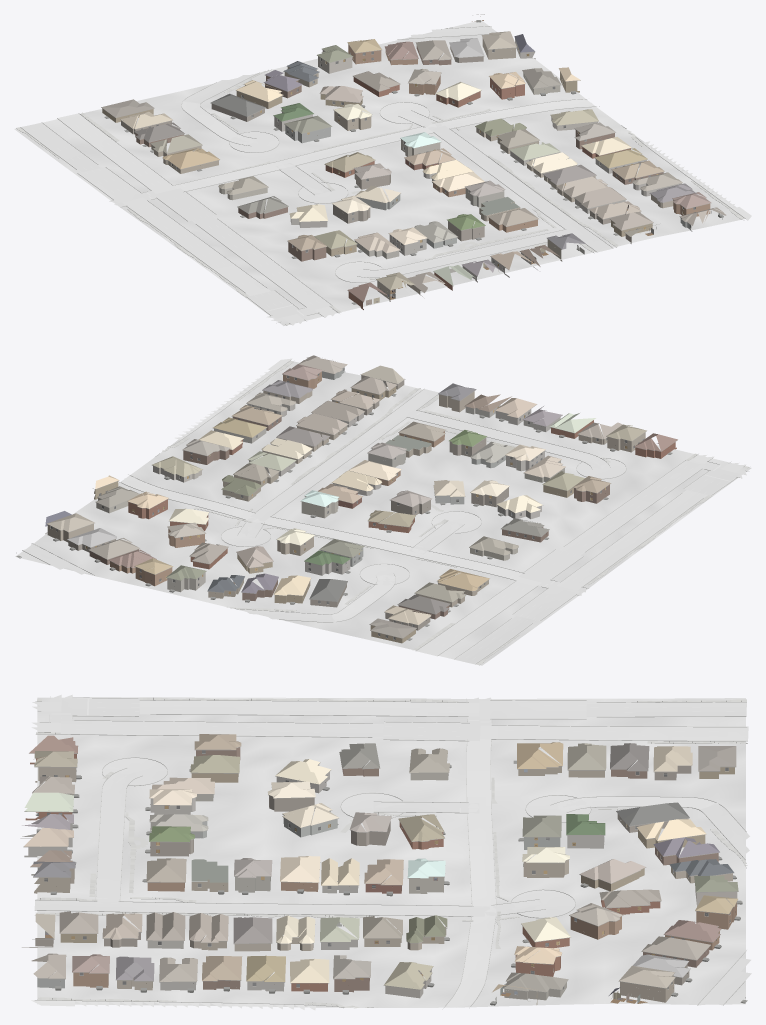
3 views of the same model, one above another, from view 1: azimuth 30°, elevation 25°; view 2: azimuth 150°, elevation 25°; view 3: azimuth 270°, elevation 25° (orthographic). The views are drawn at different scales.
Parts seen in each view (by area): view 1: ground, roof, concrete, asphalt, wall, curb, detail, wall_stucco, walk, wall_stone, mark_w; view 2: ground, roof, concrete, asphalt, wall, curb, detail, wall_stucco, wall_stone, walk, glass, mark_w; view 3: ground, roof, concrete, asphalt, wall, curb, detail, wall_stucco, walk, wall_stone, mark_w, mark_y (+1 smaller).
Part boxes in pixels (x1,y1,x2,y2): ground: (14, 20, 744, 325); roof: (101, 31, 726, 301); concrete: (109, 26, 751, 282); asphalt: (21, 113, 335, 325); wall: (102, 20, 710, 309); curb: (16, 26, 746, 325); detail: (101, 14, 723, 304); wall_stucco: (219, 50, 722, 301); walk: (16, 69, 744, 325); wall_stone: (274, 39, 681, 282); mark_w: (21, 113, 566, 315); ground: (15, 361, 751, 665); roof: (45, 355, 677, 638); concrete: (23, 358, 626, 621); asphalt: (417, 455, 746, 664); wall: (47, 371, 676, 643); curb: (22, 359, 748, 665); detail: (16, 357, 677, 640); wall_stucco: (96, 367, 645, 592); wall_stone: (45, 404, 560, 575); walk: (162, 361, 748, 665); glass: (50, 368, 639, 639); mark_w: (416, 411, 734, 663); ground: (37, 697, 745, 1007); roof: (22, 734, 738, 995); concrete: (31, 697, 751, 1010); asphalt: (31, 694, 748, 741); wall: (22, 747, 736, 1004); curb: (35, 696, 748, 1009); detail: (23, 746, 747, 1005); wall_stucco: (35, 767, 737, 1000); walk: (35, 697, 747, 1008); wall_stone: (20, 764, 604, 991); mark_w: (52, 698, 747, 898); mark_y: (50, 714, 748, 727).
Bounding box in the file's own units: 255 × 12.65 × 260.
